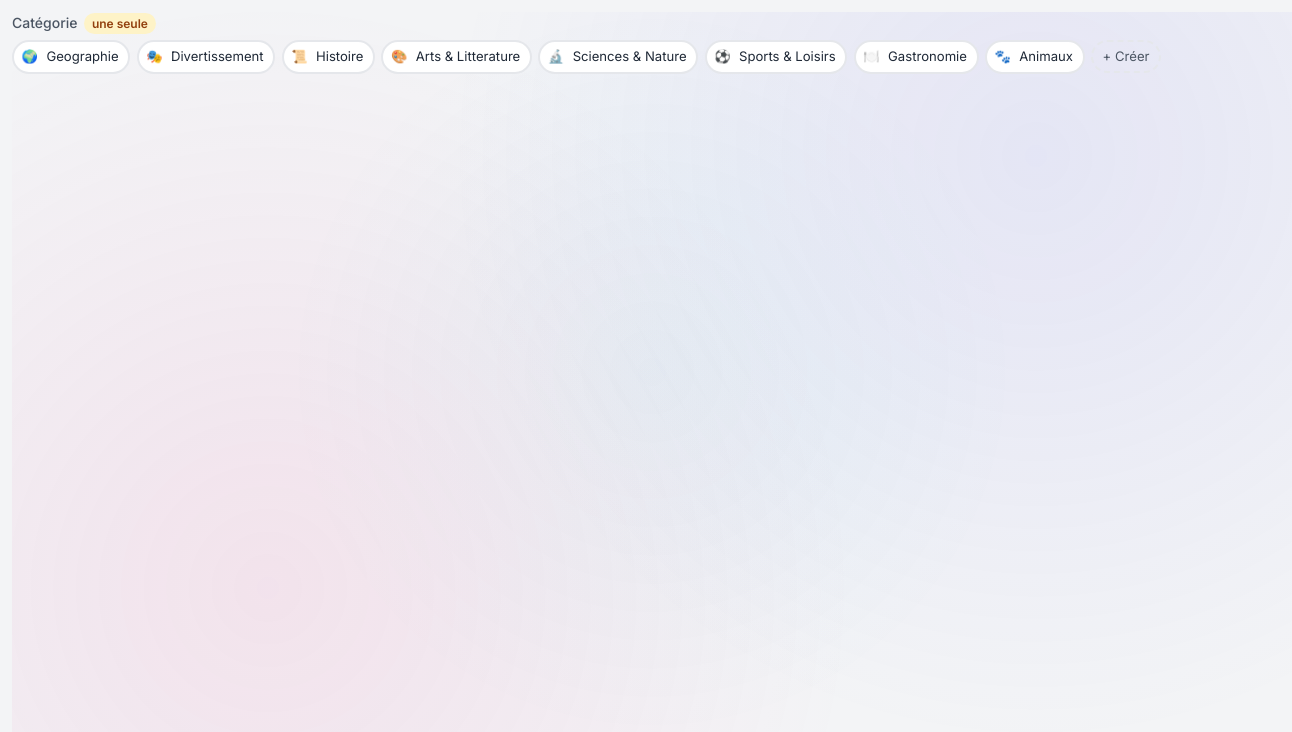
Test: CategoryPicker — allowCreate (single) › Valider sans nom : « Nom invalide », aucun fetch envoyé
Step 1. Click the button titled "Créer une catégorie" → (1126, 57), box [1091, 40, 1161, 74]
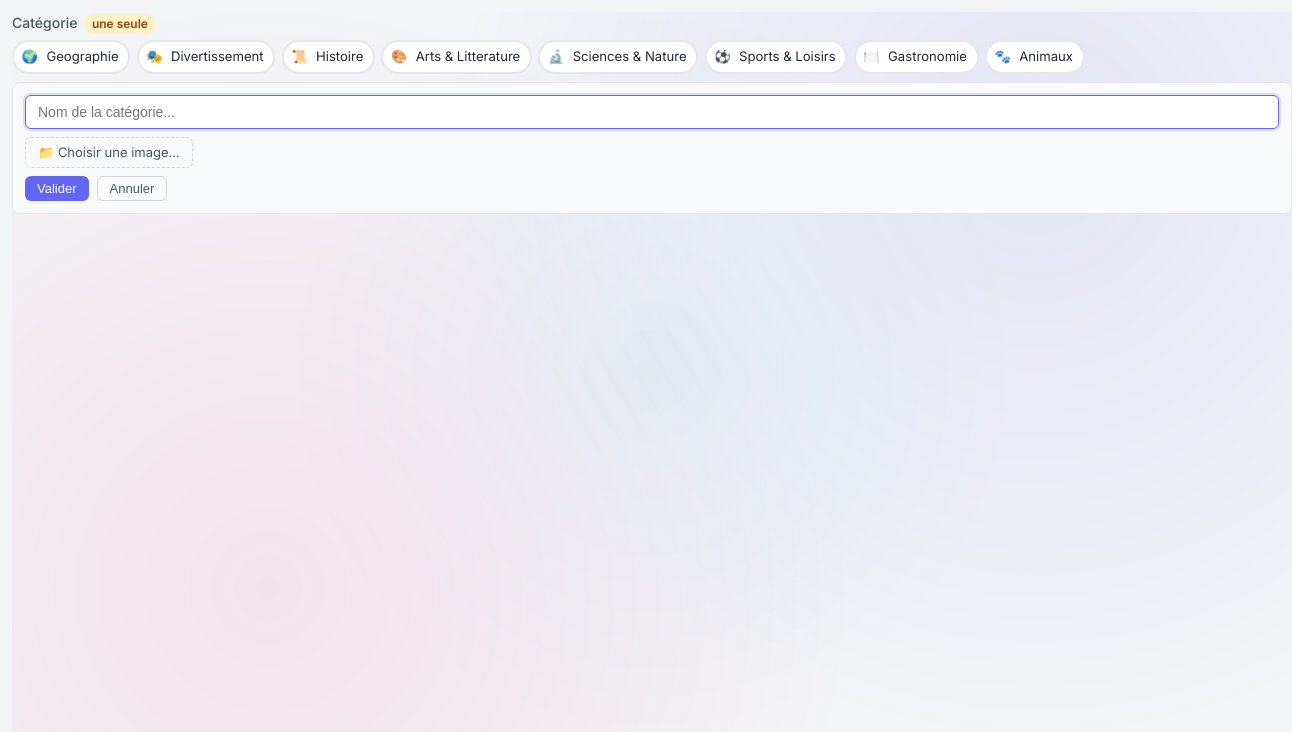
Step 2. Click the button "Valider" → (57, 188), box [25, 176, 88, 201]
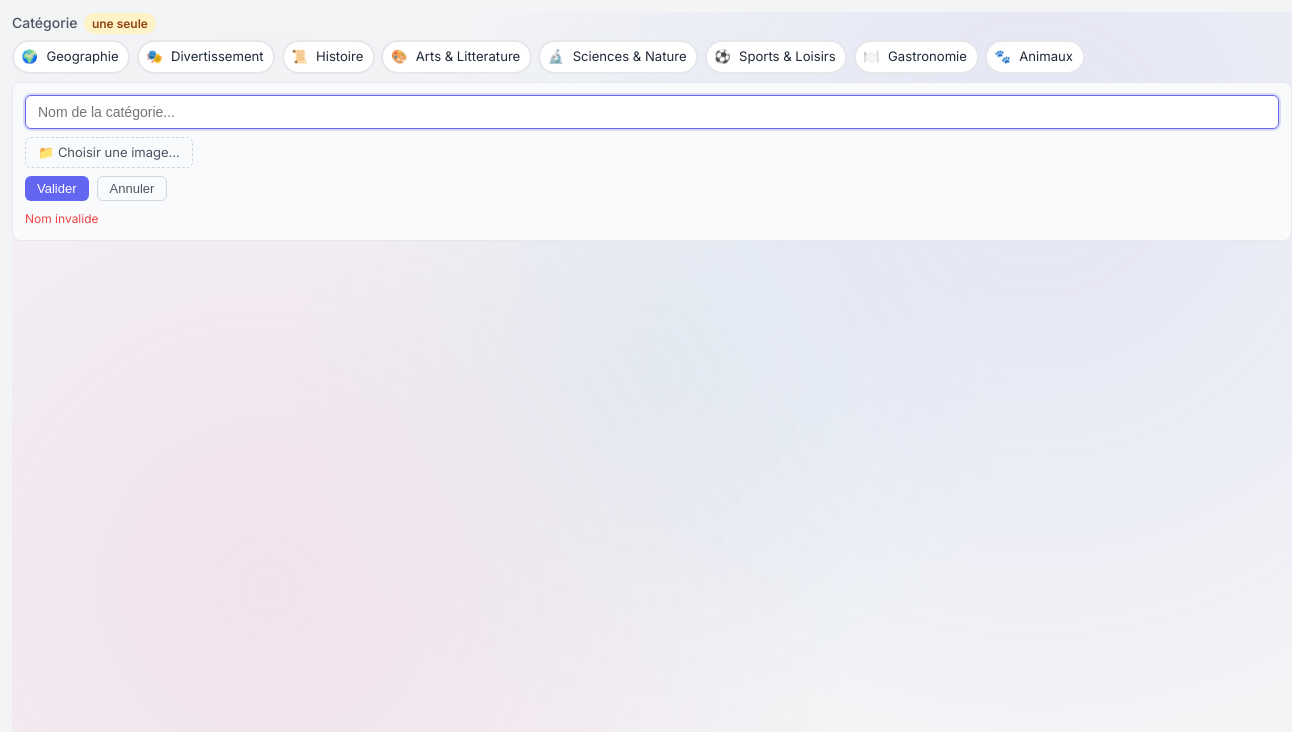
Expected: the text "Nom invalide" is shown, [25, 211, 98, 226]
